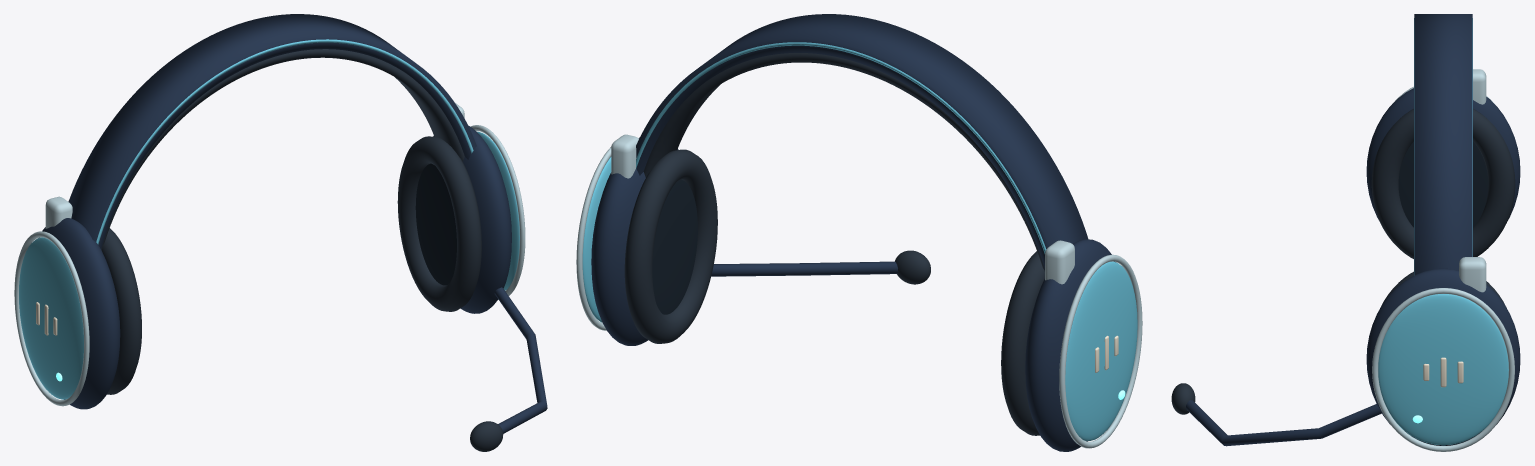
File: headphones.glb
The picture shows the model from 3 angles, left to right: view 1: azimuth 30°, elevation 25°; view 2: azimuth 150°, elevation 25°; view 3: azimuth 270°, elevation 25°; orthographic projection. The views are drawn at different scales.
Visible parts, largest first — view 1: Headband_Frame, Left_Plush_Earpad, Right_Outer_Blue_Plate, Right_Cup_Housing, Left_Cup_Housing, Headband_Inner_Cushion, Left_Speaker_Cloth, Right_Plush_Earpad, Right_Silver_Trim, Flexible_Mic_Arm, Headband_Blue_Edge, Left_Outer_Blue_Plate (+3 smaller); view 2: Headband_Frame, Left_Plush_Earpad, Right_Outer_Blue_Plate, Right_Cup_Housing, Left_Cup_Housing, Headband_Inner_Cushion, Left_Speaker_Cloth, Right_Plush_Earpad, Right_Silver_Trim, Flexible_Mic_Arm, Headband_Blue_Edge.001, Left_Outer_Blue_Plate (+4 smaller); view 3: Left_Outer_Blue_Plate, Headband_Frame, Right_Plush_Earpad, Left_Cup_Housing, Left_Silver_Trim, Right_Cup_Housing, Flexible_Mic_Arm, Right_Speaker_Cloth, Left_Adjustable_Yoke, Mic_Foam_Capsule, Right_Adjustable_Yoke.
Part boxes in pixels (box(x1,y1,x2,y2)): Headband_Frame: box(68, 14, 476, 249); Left_Plush_Earpad: box(397, 136, 481, 311); Right_Outer_Blue_Plate: box(19, 237, 83, 399); Right_Cup_Housing: box(39, 218, 120, 409); Left_Cup_Housing: box(433, 125, 511, 313); Headband_Inner_Cushion: box(101, 49, 464, 250); Left_Speaker_Cloth: box(415, 163, 456, 285); Right_Plush_Earpad: box(102, 228, 141, 394); Right_Silver_Trim: box(14, 231, 89, 406); Flexible_Mic_Arm: box(494, 287, 547, 433); Headband_Blue_Edge: box(96, 39, 473, 244); Left_Outer_Blue_Plate: box(477, 131, 519, 290); Headband_Frame: box(636, 14, 1088, 268); Left_Plush_Earpad: box(624, 149, 717, 343); Right_Outer_Blue_Plate: box(1065, 261, 1137, 440); Right_Cup_Housing: box(1025, 239, 1115, 451); Left_Cup_Housing: box(591, 137, 678, 345); Headband_Inner_Cushion: box(643, 53, 1044, 271); Left_Speaker_Cloth: box(652, 179, 697, 314); Right_Plush_Earpad: box(1001, 251, 1044, 435); Right_Silver_Trim: box(1059, 254, 1142, 448); Flexible_Mic_Arm: box(711, 261, 898, 276); Headband_Blue_Edge.001: box(636, 42, 1046, 253); Left_Outer_Blue_Plate: box(582, 156, 611, 322); Left_Outer_Blue_Plate: box(1378, 294, 1508, 445); Headband_Frame: box(1414, 14, 1472, 275); Right_Plush_Earpad: box(1371, 109, 1515, 258); Left_Cup_Housing: box(1366, 268, 1520, 445); Left_Silver_Trim: box(1372, 288, 1514, 451); Right_Cup_Housing: box(1366, 88, 1520, 220); Flexible_Mic_Arm: box(1186, 400, 1381, 446); Right_Speaker_Cloth: box(1398, 141, 1488, 227); Left_Adjustable_Yoke: box(1459, 257, 1486, 292); Mic_Foam_Capsule: box(1171, 383, 1195, 414); Right_Adjustable_Yoke: box(1473, 69, 1486, 104).
Bounding box in the file's own units: 0.2993 × 0.2182 × 0.204.
